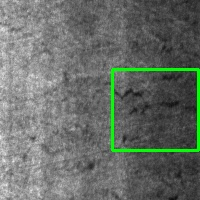crazing: (112, 69, 198, 150)
